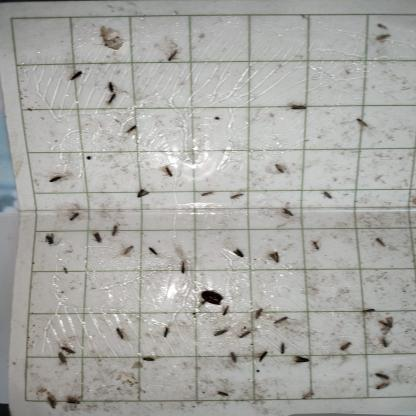prays_oleae: (96, 26, 136, 66), (294, 346, 314, 376), (61, 339, 79, 363), (229, 183, 246, 208), (311, 229, 325, 259), (358, 107, 372, 136), (292, 94, 307, 121), (45, 167, 65, 187), (40, 384, 56, 409), (268, 244, 284, 269), (122, 118, 140, 140), (122, 238, 136, 266), (168, 43, 182, 71), (162, 158, 177, 184), (226, 243, 245, 263), (90, 224, 104, 251), (338, 340, 356, 361), (54, 346, 69, 370), (212, 384, 230, 404), (68, 68, 85, 89), (218, 300, 234, 322), (212, 323, 231, 341), (374, 365, 394, 382), (224, 350, 241, 370), (238, 324, 255, 344), (272, 158, 287, 180), (146, 240, 162, 260), (274, 310, 290, 330), (198, 188, 218, 204), (134, 186, 152, 203), (359, 304, 378, 320), (384, 315, 399, 335), (142, 350, 158, 368), (252, 303, 264, 327), (104, 91, 118, 111), (372, 384, 392, 398), (280, 202, 294, 222), (70, 208, 83, 229), (376, 28, 393, 44), (321, 187, 334, 207), (256, 349, 271, 366), (44, 228, 55, 250), (113, 326, 123, 348), (70, 392, 82, 409), (374, 234, 386, 251), (177, 258, 187, 278), (108, 220, 118, 238), (106, 78, 116, 94), (160, 326, 173, 337), (85, 152, 93, 163)
